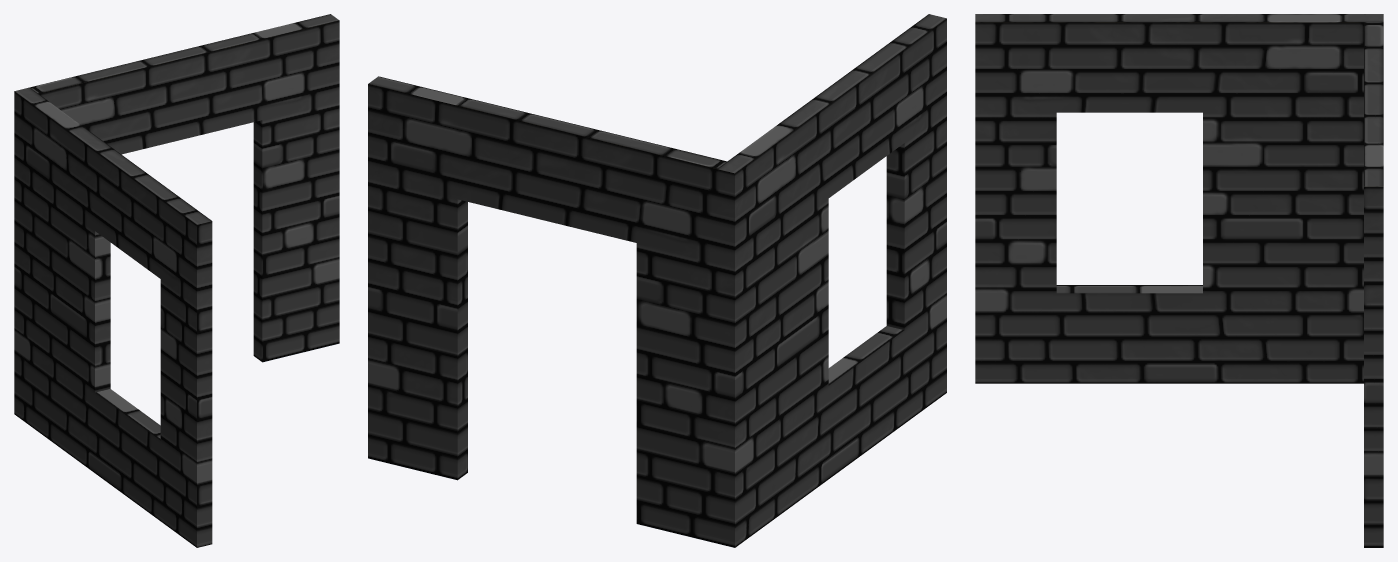
Rendered from Wall_3_Corner_F.fbx.
3 renders of one model, left to right at view 1: azimuth 30°, elevation 25°; view 2: azimuth 150°, elevation 25°; view 3: azimuth 270°, elevation 25°, orthographic. The views are drawn at different scales.
Parts seen in each view (by area): view 1: polySurface1477; view 2: polySurface1477; view 3: polySurface1477.
Boxes of the visible parts, box(x1,y1,x2,y2) form: polySurface1477: box(14, 14, 339, 547); polySurface1477: box(368, 14, 946, 547); polySurface1477: box(975, 14, 1383, 547).
Bounding box in the file's own units: 4.1 × 4 × 4.1.
